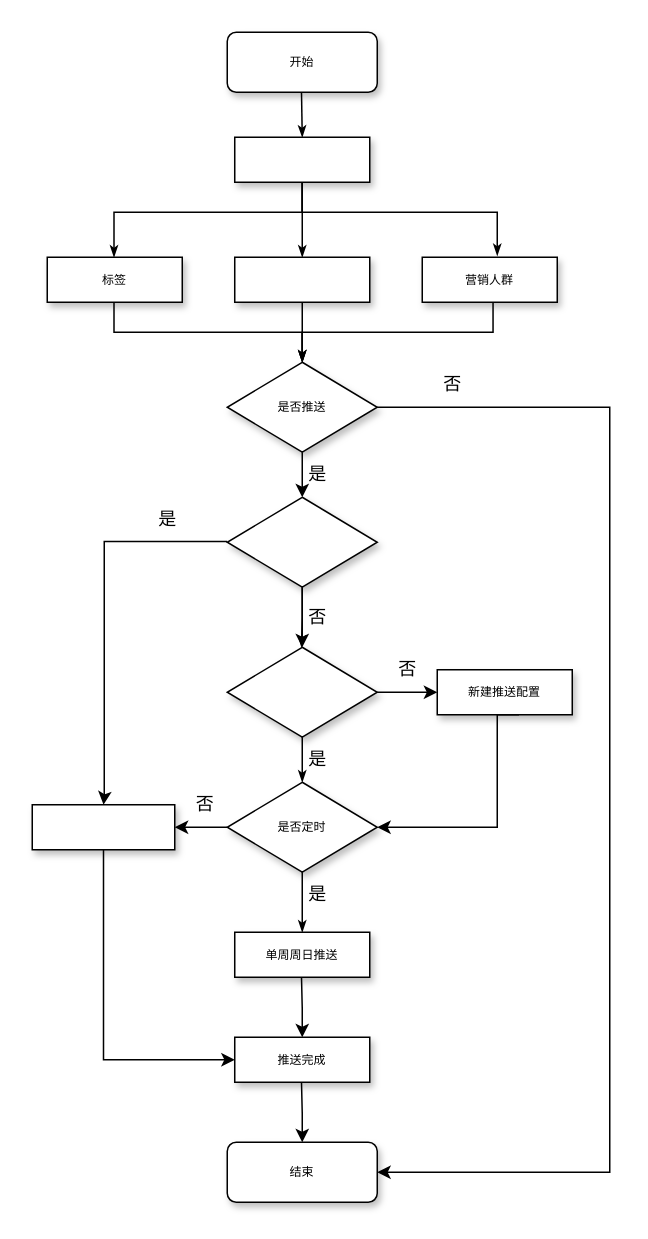
This 648x1239 diagram has some shape labels left out. Each missing label, with the centre of its shape:
"CDP人群" goes at pixel 303 281.
"南讯推送" goes at pixel 303 161.
"是否单次推送" goes at pixel 303 544.
"是否存在 推送配置" goes at pixel 303 694.
"立即推送" goes at pixel 104 828.
